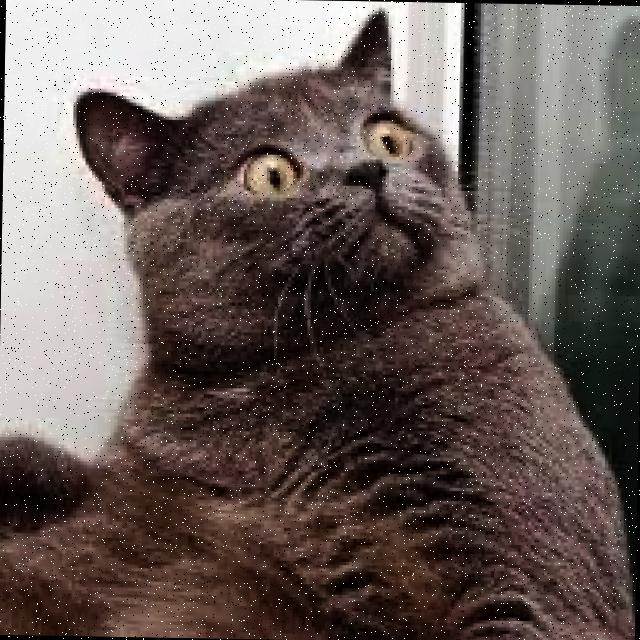Surprised: (200, 97, 461, 298)
